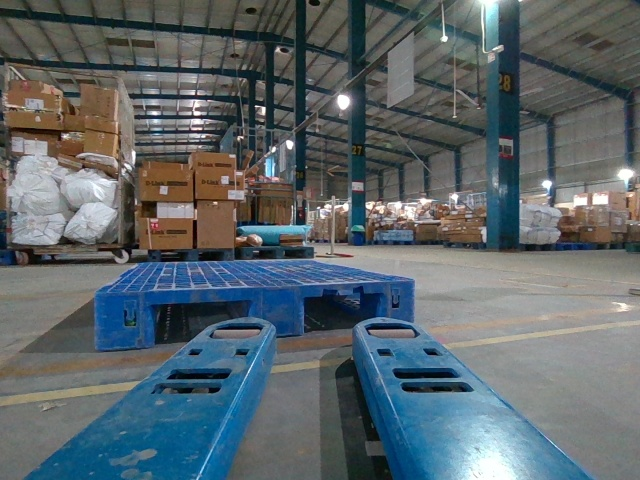block: (96, 289, 156, 352), (248, 287, 304, 339), (380, 278, 416, 324)
front: (94, 280, 414, 349)
hole pallet: (155, 300, 248, 343), (305, 294, 382, 332)
